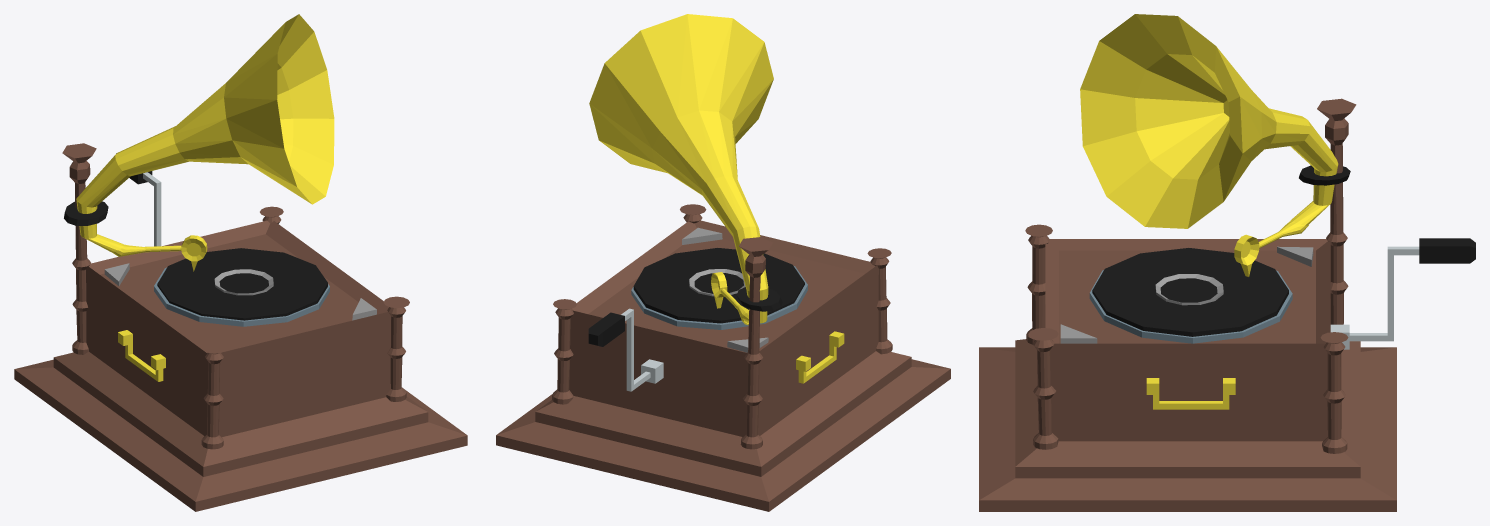
The model's file is Gramophone.glb.
The picture shows the model from 3 angles, left to right: view 1: azimuth 30°, elevation 25°; view 2: azimuth 150°, elevation 25°; view 3: azimuth 270°, elevation 25°; orthographic projection. The views are drawn at different scales.
Visible parts, largest first — view 1: Node; view 2: Node; view 3: Node.
Boxes of the visible parts, x1,y1,x2,y2 form: Node: (14, 14, 467, 511); Node: (496, 14, 950, 511); Node: (979, 14, 1475, 511).
Size of the model in its own units: 0.571 by 0.7693 by 0.7834.
